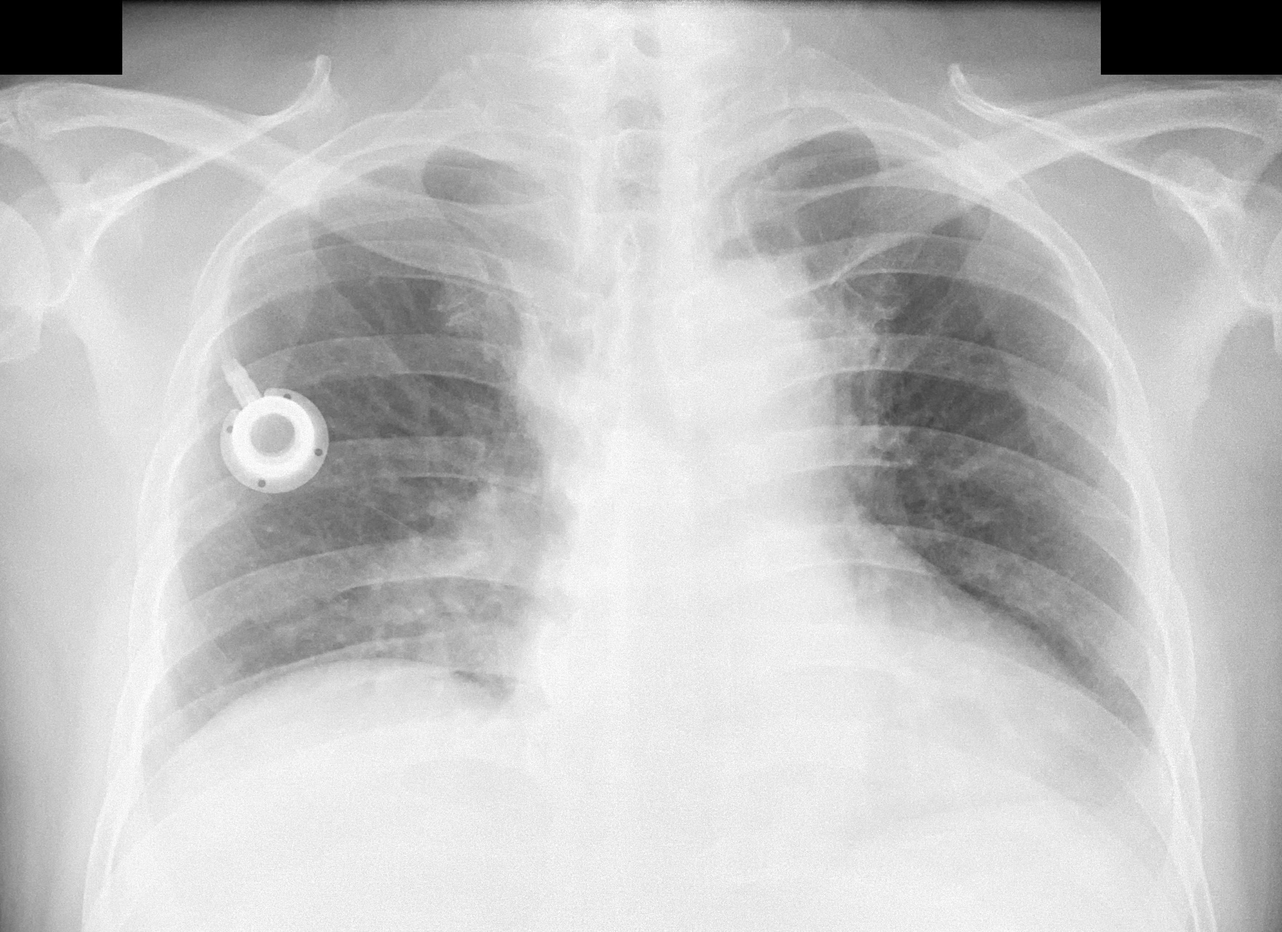Aortic enlargement: (653, 279, 839, 478)
Cardiomegaly: (522, 589, 1106, 773)
Pleural thickening: (341, 121, 522, 179)
